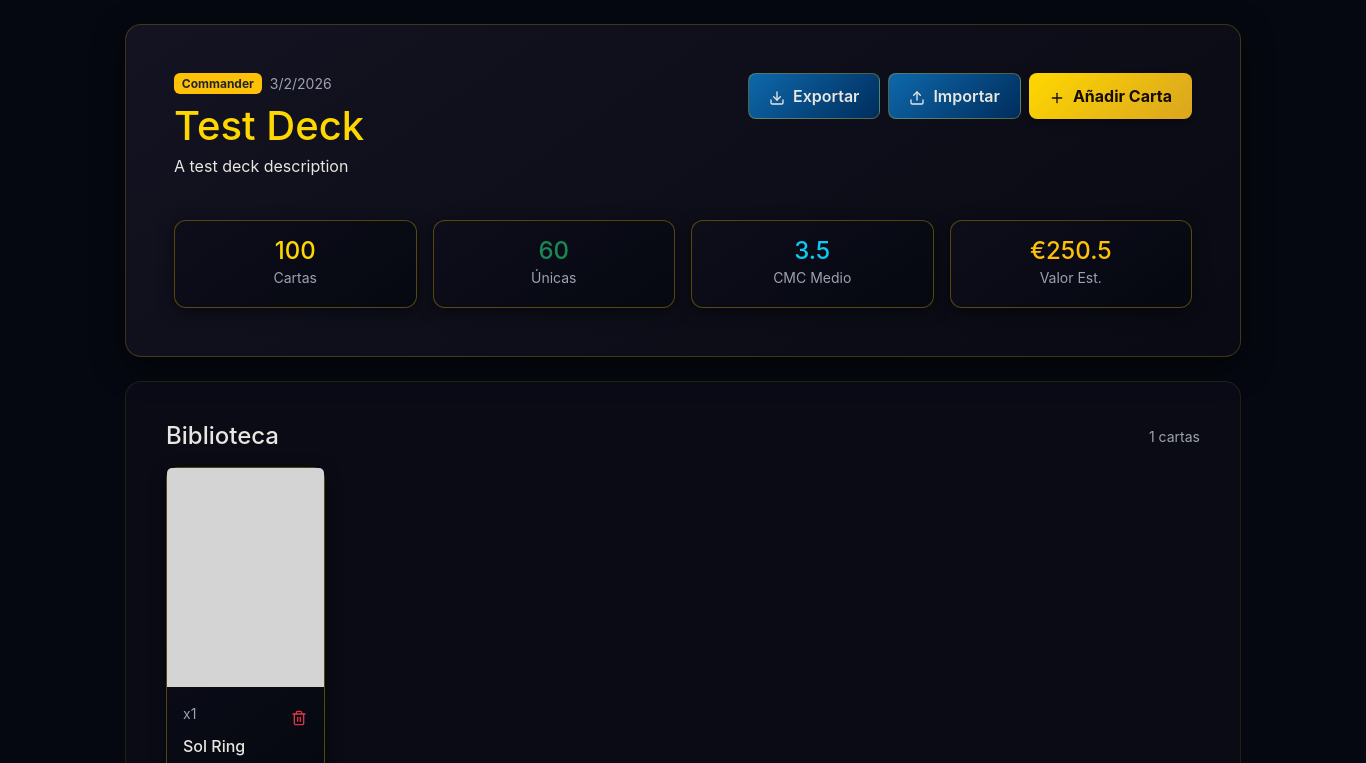
DeckViewPage › muestra modal de importación al pulsar importar
The image size is (1366, 763).
Check: the heading "Test Deck" is shown, box [174,102,364,150]
Click the button titled "Subir lista". click: (955, 96)
box: [888,73,1021,119]
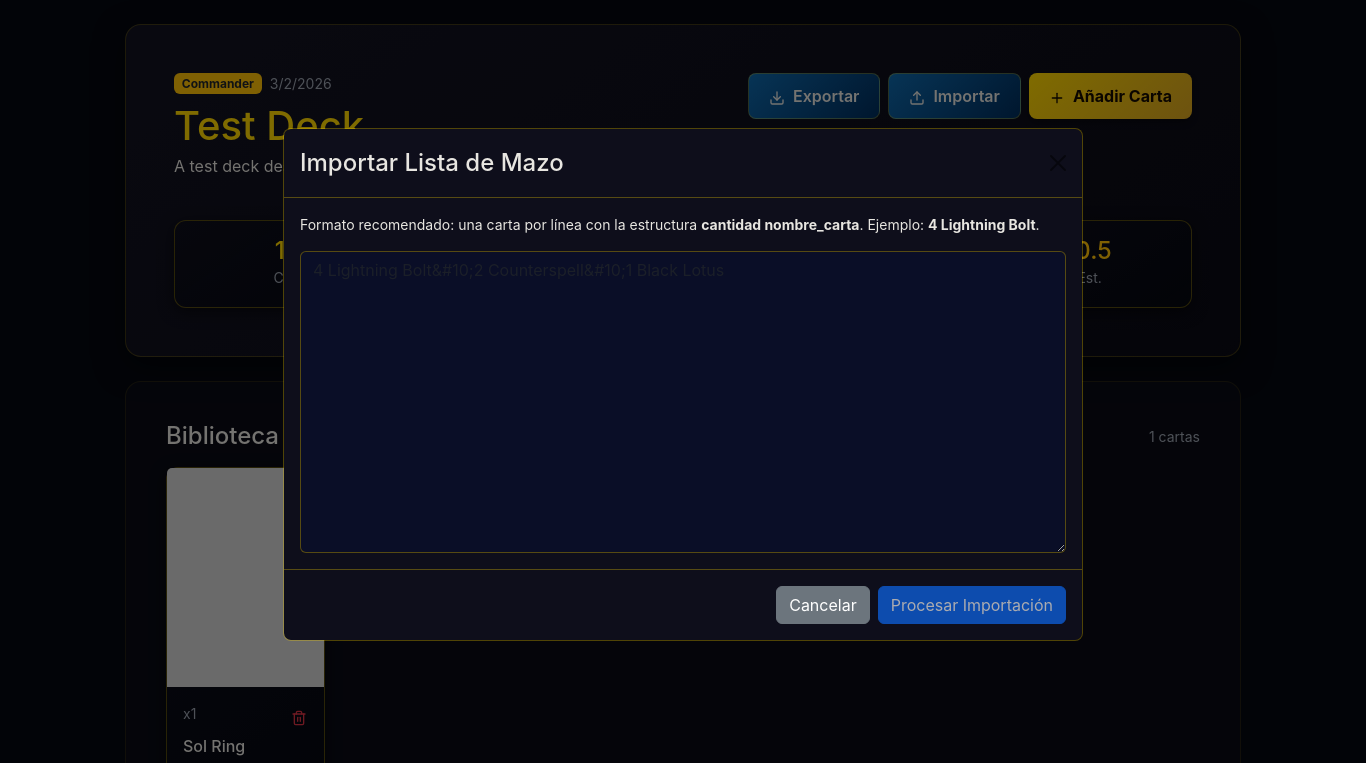
Check: the text "Importar Lista de Mazo" is shown, box [300,144,564,180]
Check: the button "Procesar Importación" is shown, box [878,586,1066,624]
Check: the text "Formato recomendado" is shown, box [300,216,701,232]
